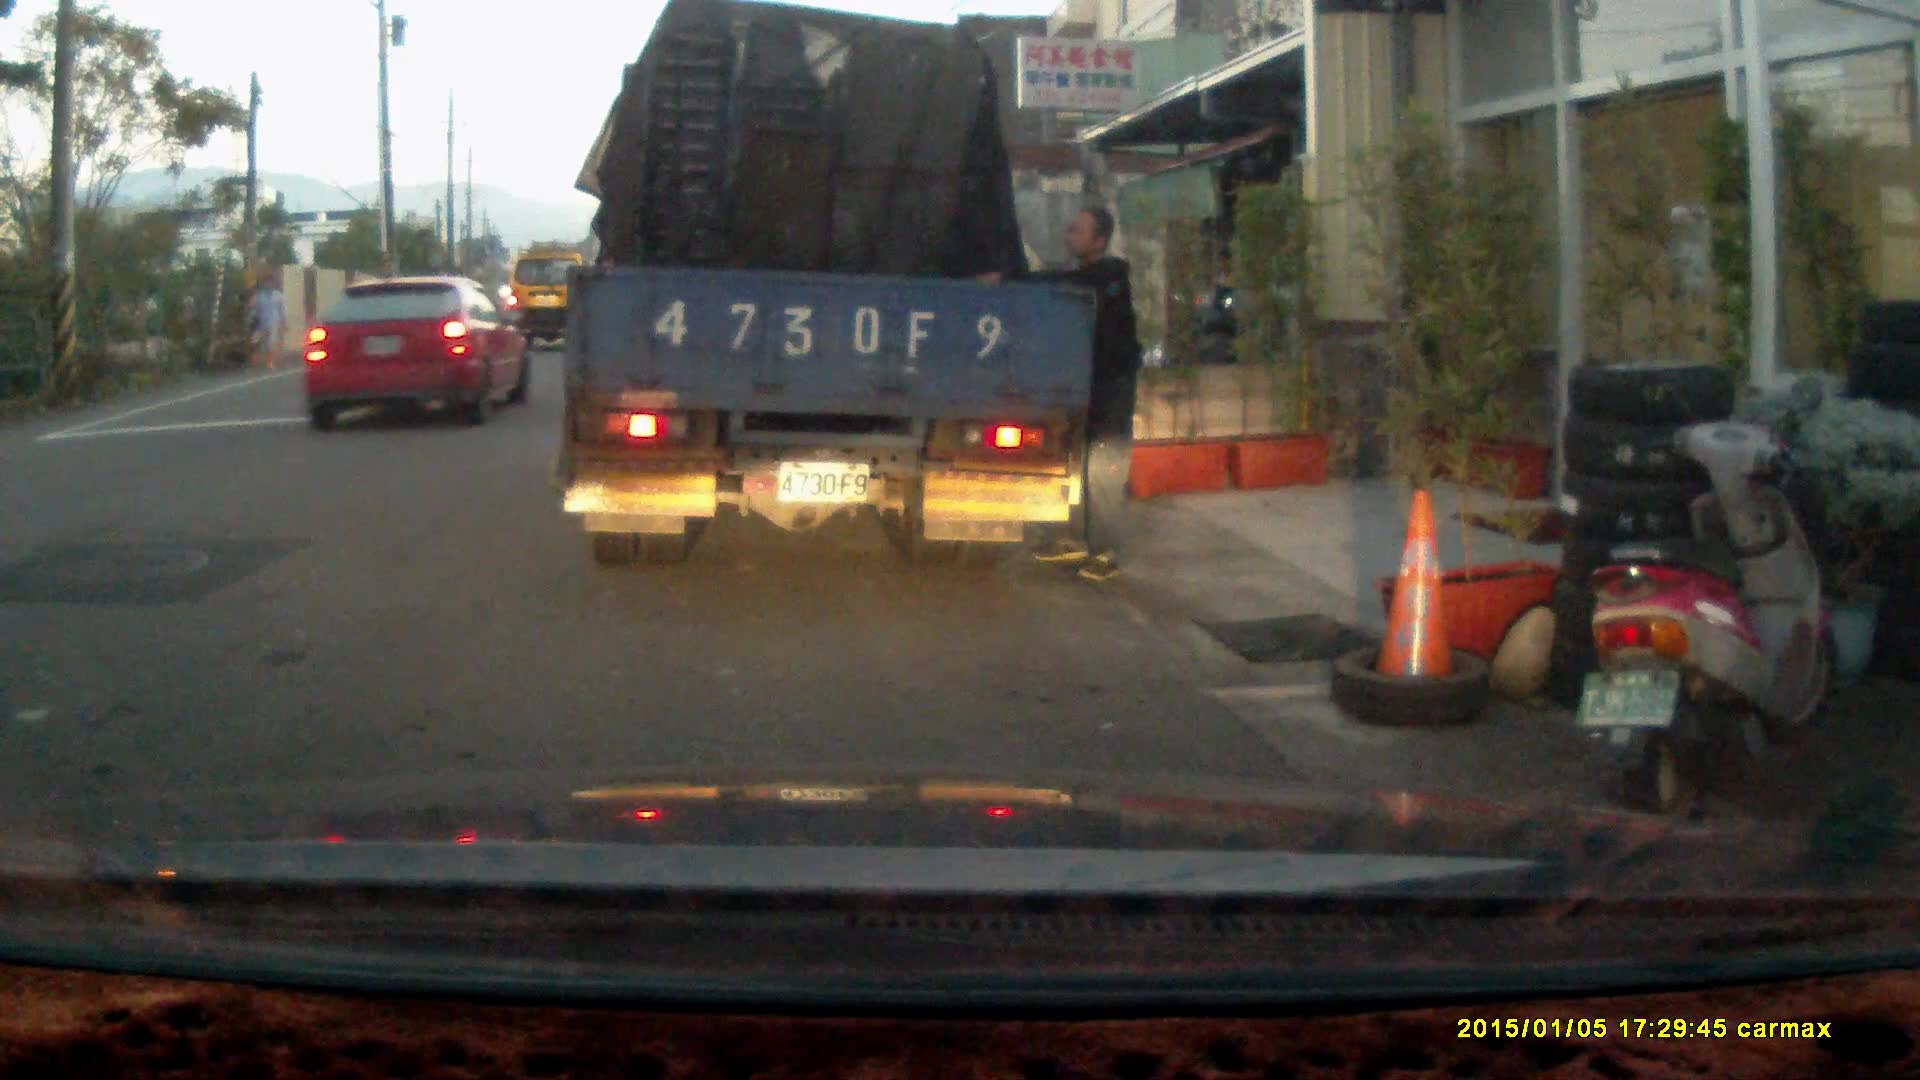pedestrian: (976, 204, 1140, 581), (245, 274, 286, 371)
vehicle: (565, 23, 1097, 572), (304, 277, 531, 431), (506, 249, 593, 347)
